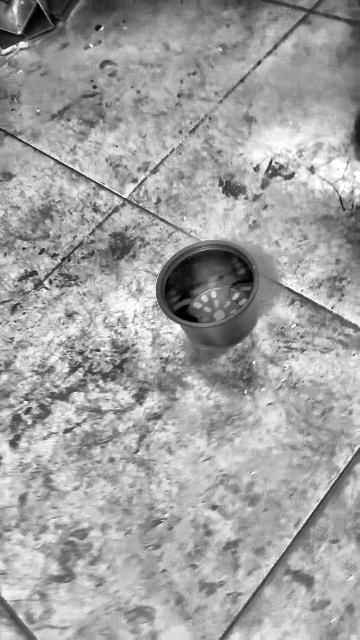pot: (156, 241, 260, 348)
